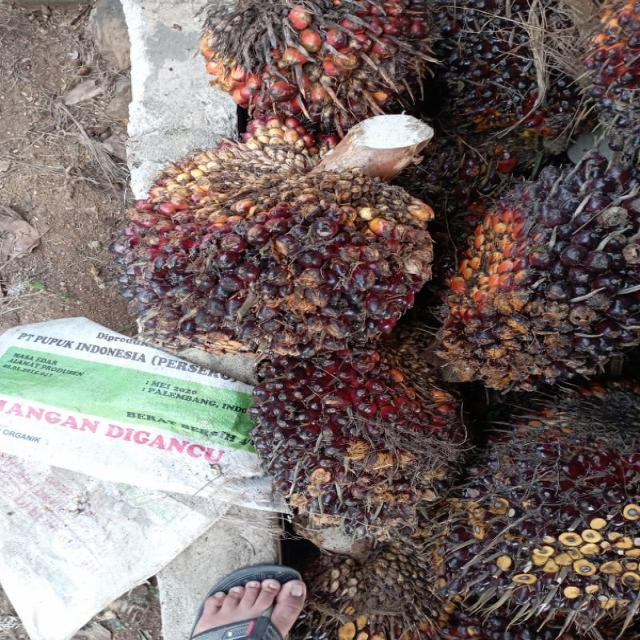fraksi 1: (66, 100, 461, 406)
